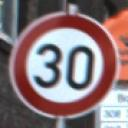speed_limit_30: (8, 10, 122, 121)
